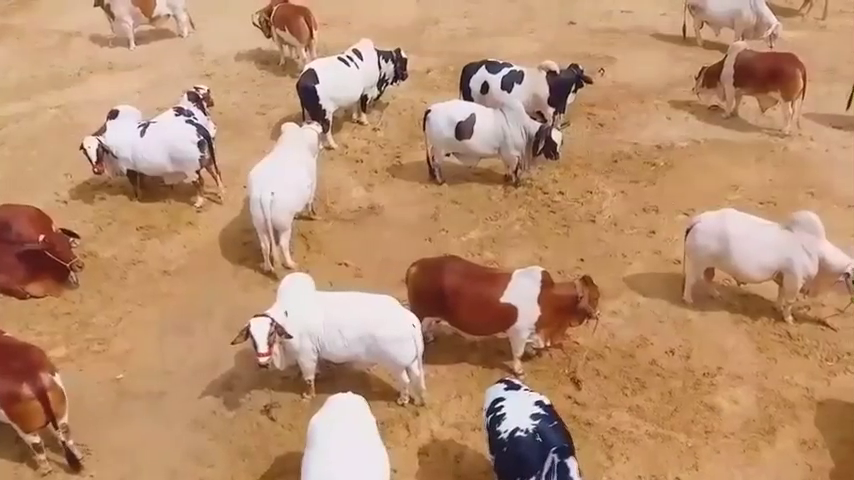bo: (236, 261, 428, 409), (671, 200, 854, 333), (403, 252, 600, 375), (70, 105, 234, 217), (414, 88, 568, 198), (464, 363, 603, 480), (290, 29, 416, 146), (235, 110, 321, 275), (3, 325, 90, 476), (680, 41, 810, 138), (459, 48, 599, 137), (2, 195, 88, 308), (297, 383, 393, 478), (240, 3, 326, 77), (678, 1, 789, 48), (165, 74, 237, 146), (87, 4, 190, 50)
